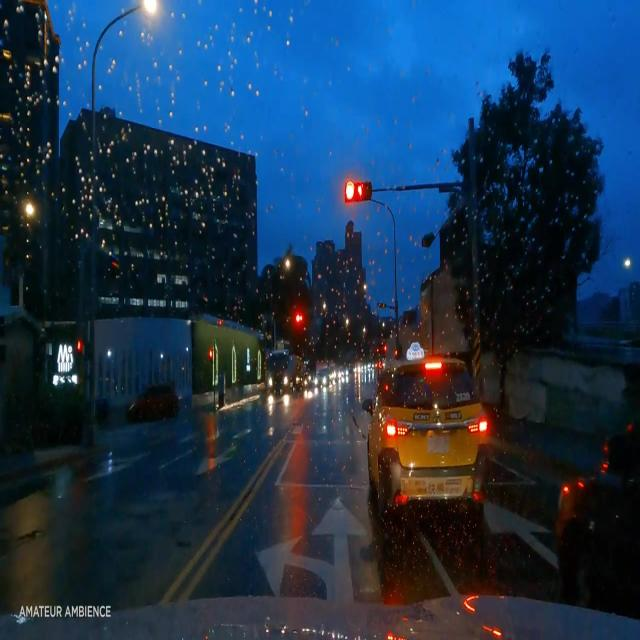Car: (366, 362, 487, 530)
